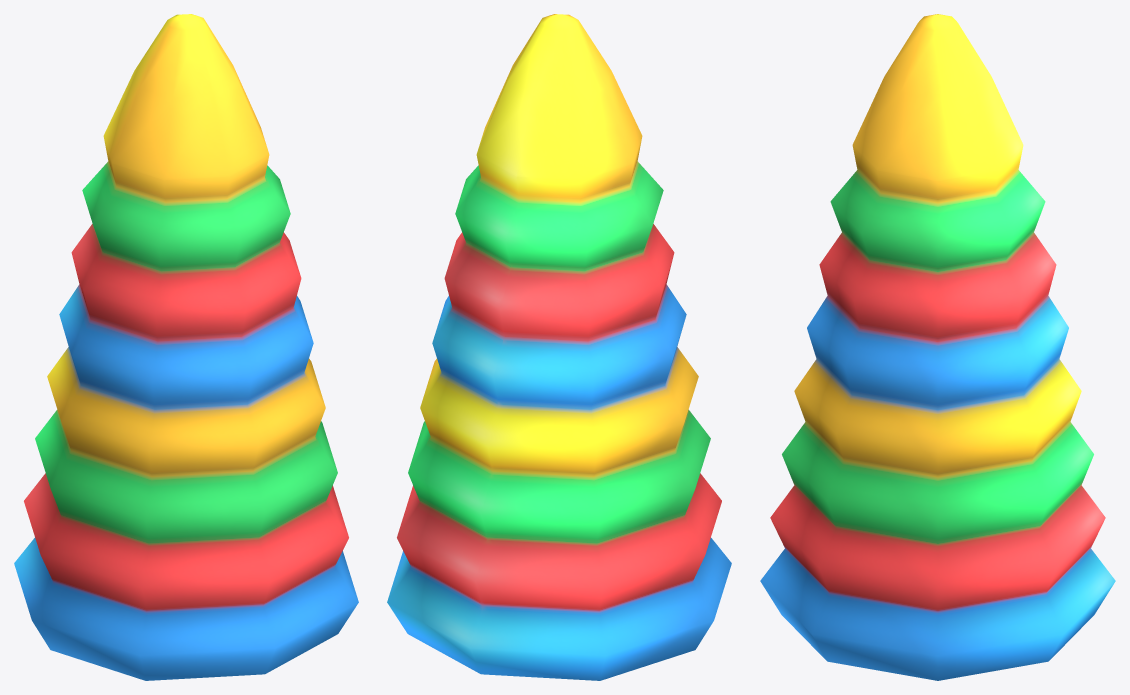
Rendered from obj_toy04.gltf.
3 renders of one model, left to right at view 1: azimuth 30°, elevation 25°; view 2: azimuth 150°, elevation 25°; view 3: azimuth 270°, elevation 25°, orthographic.
Visible parts, largest first — view 1: obj_toy04; view 2: obj_toy04; view 3: obj_toy04.
Boxes of the visible parts, x1=… form: obj_toy04: x1=14, y1=14, x2=358, y2=680; obj_toy04: x1=387, y1=14, x2=731, y2=680; obj_toy04: x1=760, y1=14, x2=1115, y2=680.
Size of the model in its own units: 0.3164 by 0.5892 by 0.3164.
Materials: 1 (1 with a texture image).
